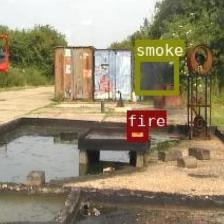fire: (125, 126, 147, 140)
smoke: (134, 56, 178, 94)
